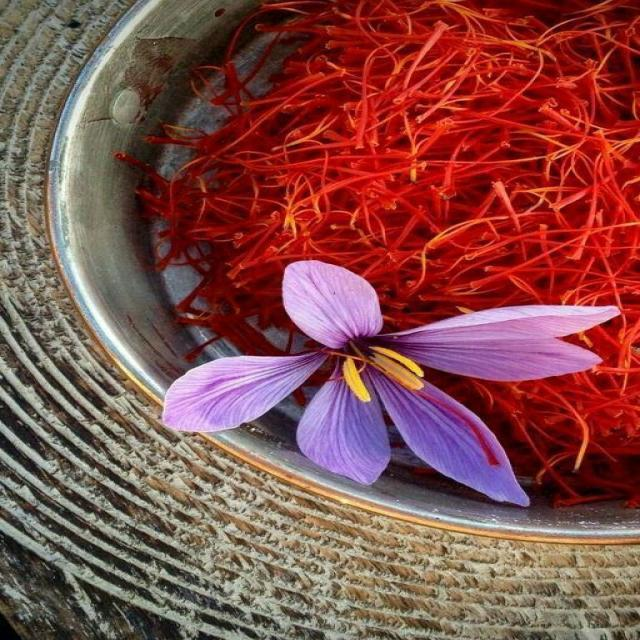Flower: (164, 260, 619, 506)
stigma: (371, 364, 508, 473)
